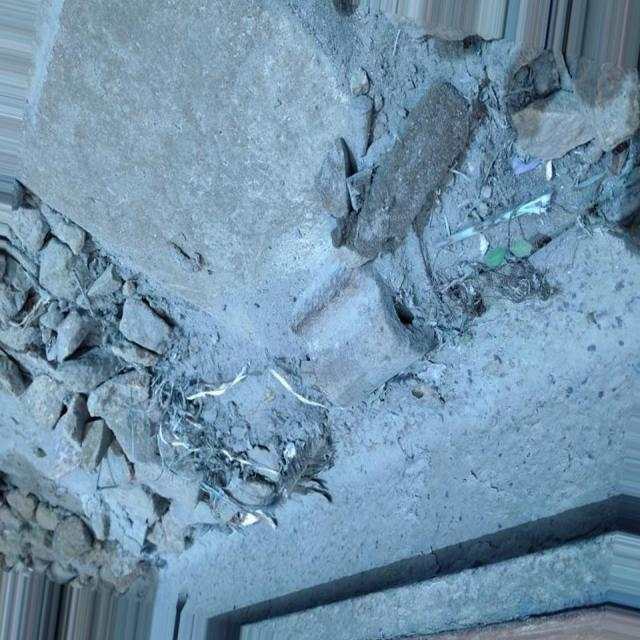Missing Fastener: (256, 251, 448, 447)
